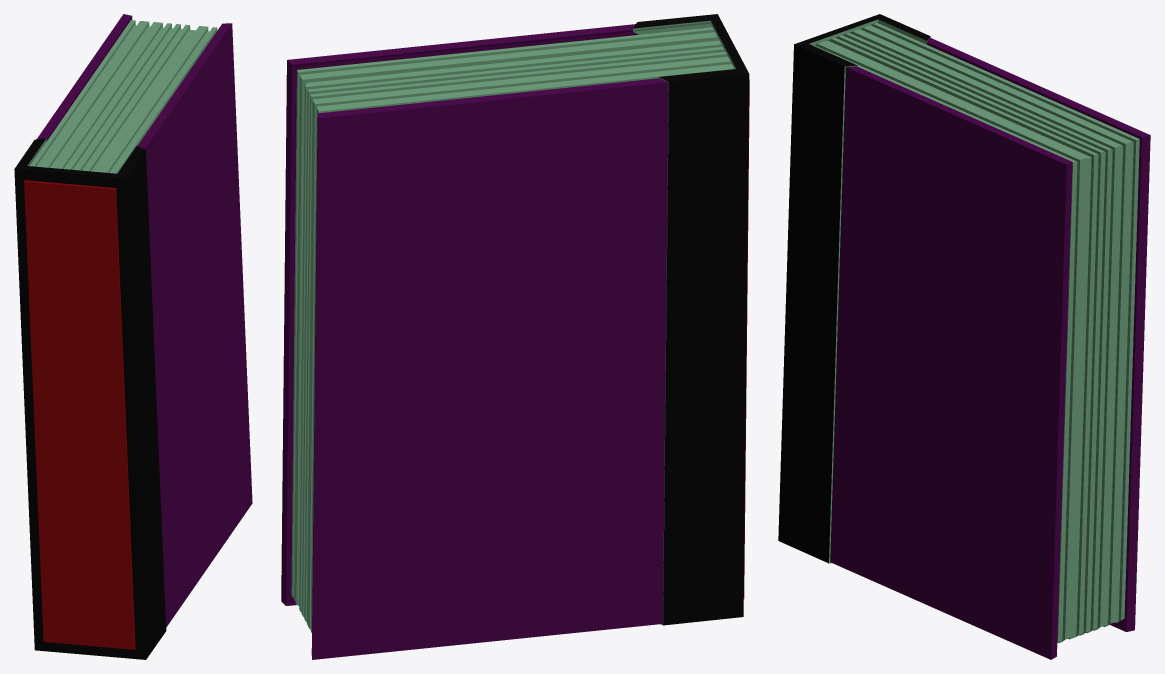
File: ThirdShelfBook2.fbx
3 views of the same model, side by side, from view 1: azimuth 30°, elevation 25°; view 2: azimuth 150°, elevation 25°; view 3: azimuth 270°, elevation 25° (orthographic). The views are drawn at different scales.
Parts seen in each view (by area): view 1: Book.009; view 2: Book.009; view 3: Book.009.
Part boxes in pixels (<box>): Book.009: <box>14,14,252,659</box>; Book.009: <box>281,14,749,659</box>; Book.009: <box>778,14,1150,659</box>.
Bounding box in the file's own units: 123 × 176 × 120.
